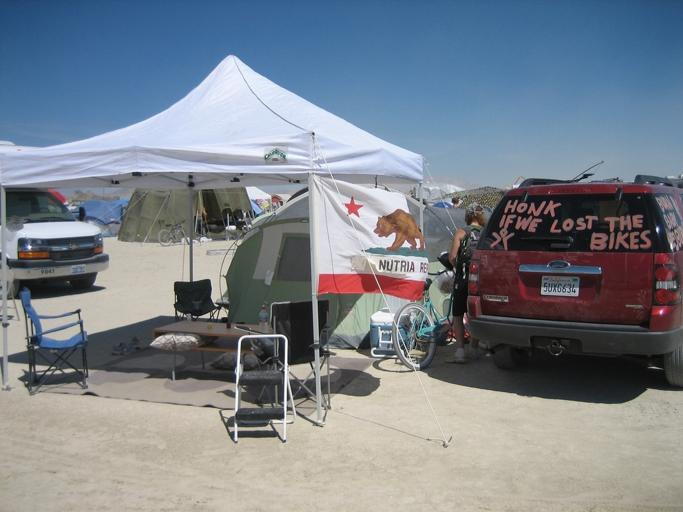non-vehicle: (391, 251, 472, 370), (156, 218, 189, 246)
